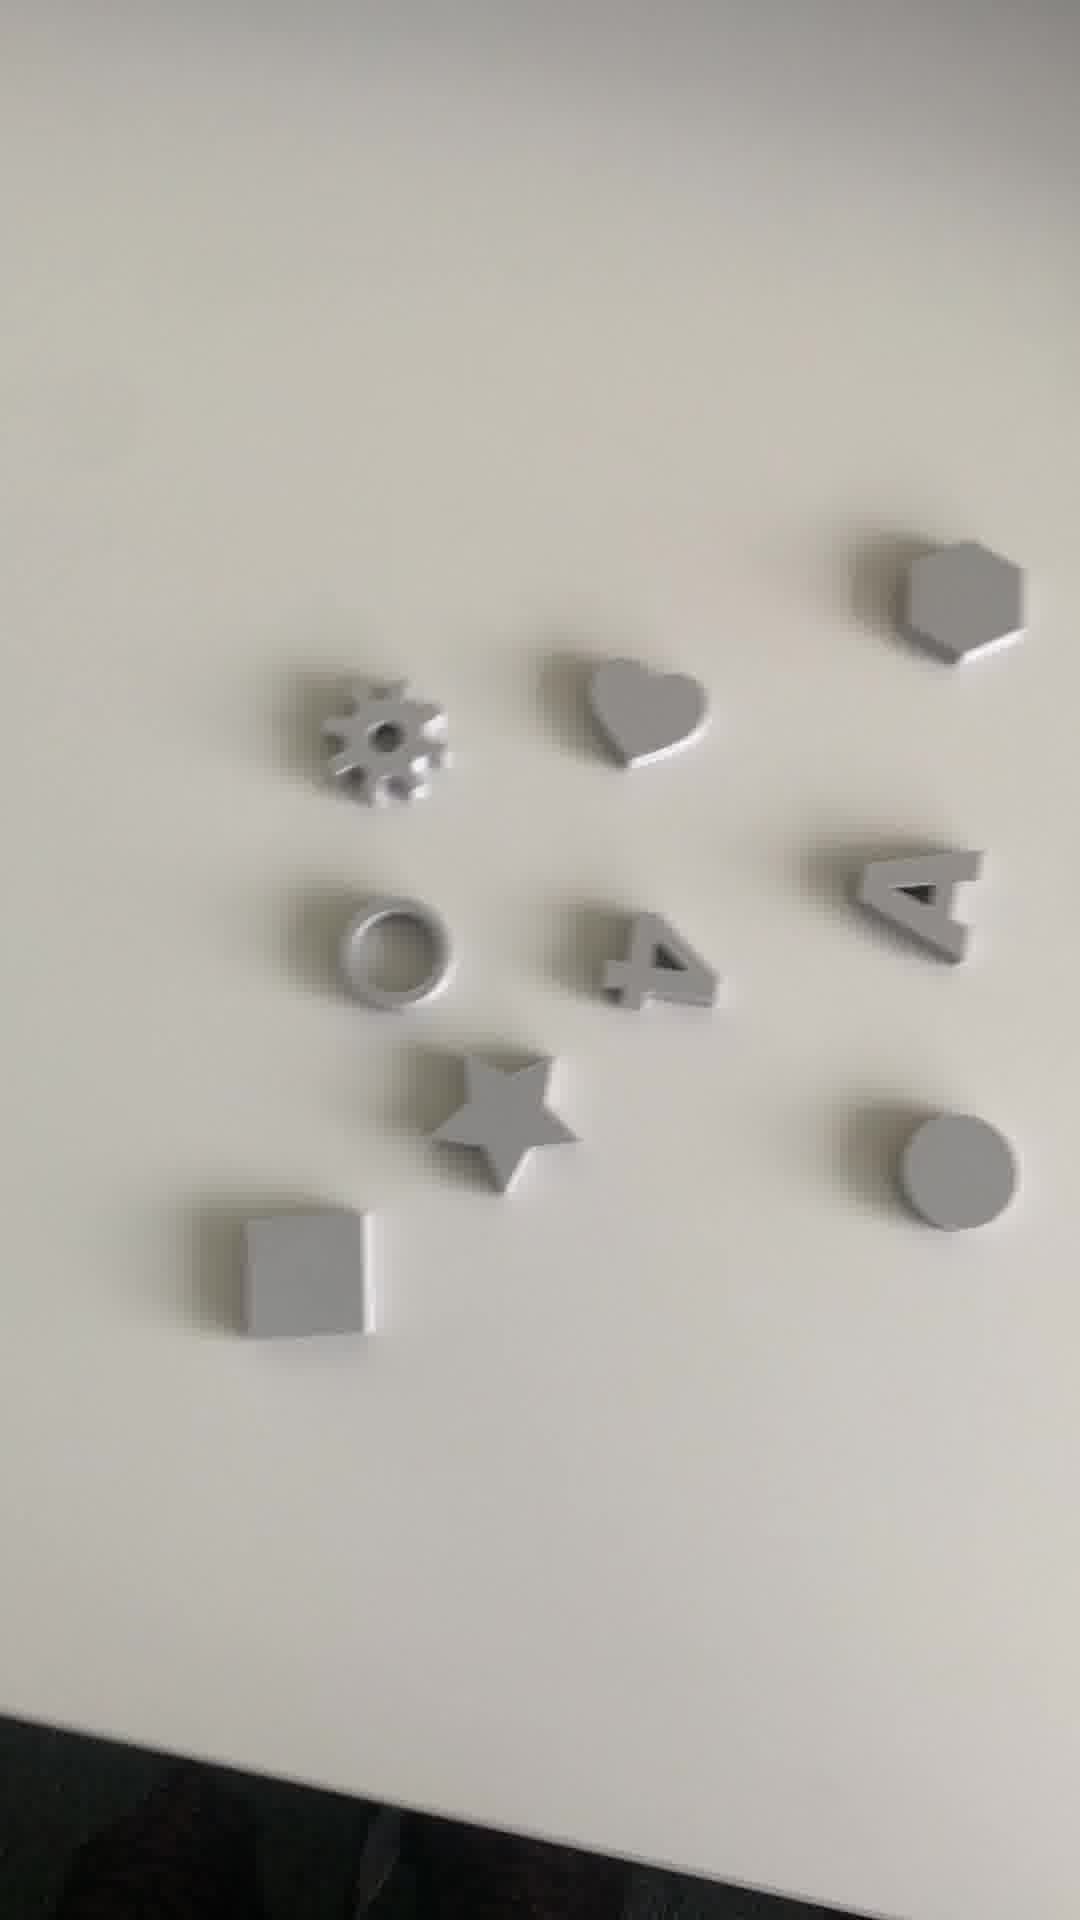Gray A-letter: (849, 844, 990, 963)
Gray circle: (895, 1106, 1026, 1240)
Gray four: (596, 914, 723, 1025)
Gray gear: (320, 673, 454, 806)
Gray heart: (592, 654, 709, 779)
Gray hexagon: (894, 538, 1031, 663)
Gray ring: (343, 899, 463, 1015)
Gray square: (225, 1187, 388, 1356)
Gray star: (430, 1040, 567, 1197)
